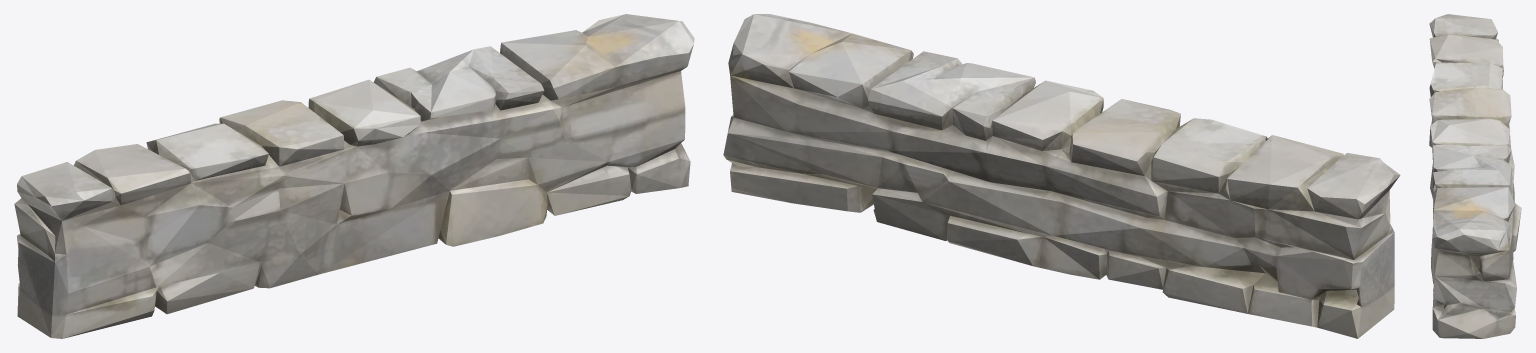
Rendered from stone_wall_2.glb.
3 views of the same model, side by side, from view 1: azimuth 30°, elevation 25°; view 2: azimuth 150°, elevation 25°; view 3: azimuth 270°, elevation 25° (orthographic). The views are drawn at different scales.
Parts seen in each view (by area): view 1: geometry_0; view 2: geometry_0; view 3: geometry_0.
Part boxes in pixels (x1,y1,x2,y2): geometry_0: (14,14,694,338); geometry_0: (723,14,1400,338); geometry_0: (1429,14,1521,338).
Size of the model in its own units: 0.9976 by 0.2301 by 0.1712.
1 material, 1 textured.
